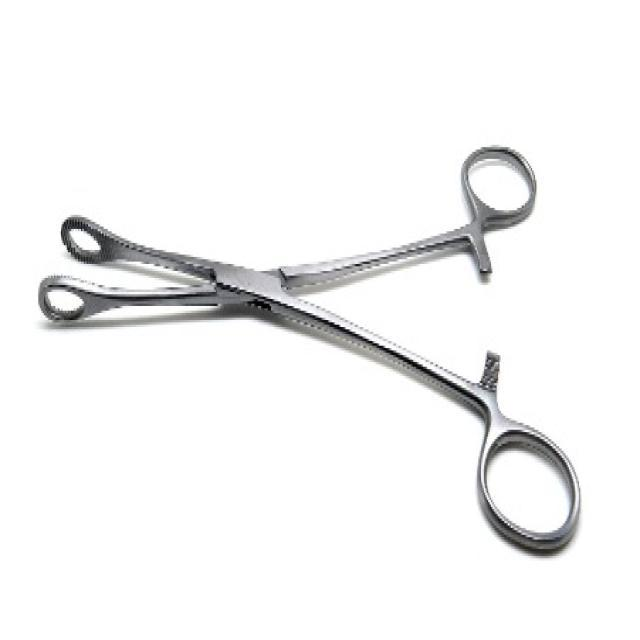Sponge Holding Forceps: (33, 132, 584, 562)
